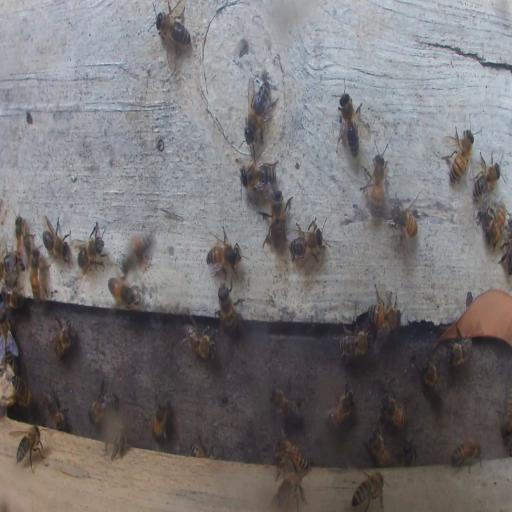nonpollenbee: (243, 79, 278, 140), (336, 84, 364, 158), (155, 1, 192, 56), (362, 145, 388, 219), (261, 186, 289, 250), (74, 222, 108, 274), (446, 125, 475, 184), (206, 231, 241, 277), (288, 218, 324, 262), (324, 382, 356, 431), (87, 378, 119, 426), (388, 195, 419, 243), (41, 213, 71, 262), (184, 314, 216, 359), (14, 423, 43, 472), (269, 383, 303, 424), (272, 438, 310, 474), (471, 152, 502, 196), (351, 472, 384, 510), (366, 421, 391, 469), (380, 388, 406, 431), (240, 160, 277, 190), (218, 285, 241, 333), (368, 300, 400, 334), (109, 277, 141, 311), (486, 202, 508, 251), (421, 354, 444, 400), (52, 317, 76, 361), (338, 328, 370, 361), (450, 439, 483, 470), (446, 336, 473, 368), (498, 388, 512, 449), (48, 386, 67, 430), (14, 215, 31, 264), (28, 249, 44, 301), (8, 371, 31, 405), (276, 478, 306, 504), (104, 428, 128, 460), (1, 312, 17, 358), (153, 395, 167, 443), (190, 430, 212, 458), (1, 286, 26, 310), (401, 440, 417, 467), (3, 254, 15, 277)
pollenbee: (121, 231, 153, 277)
